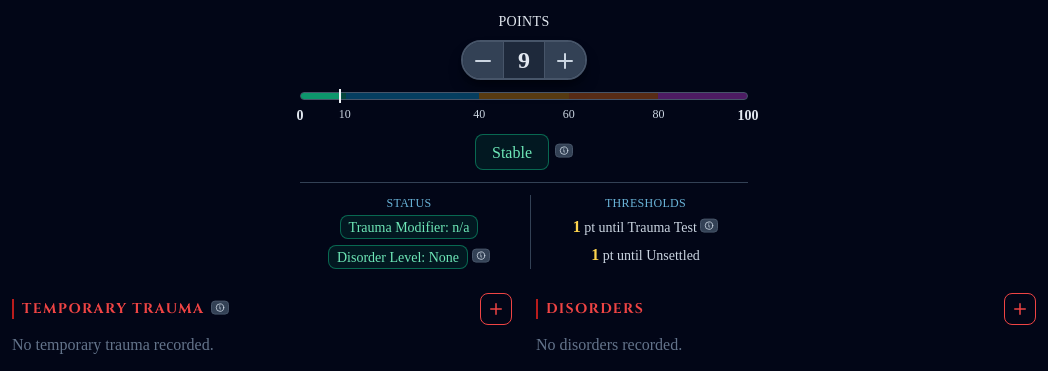
Test: InsanityPanel points wiring › updates the degree shown when the stepper crosses into a new band
This screenshot has width=1048, height=371.
Check: the text "Stable" is shown, box [475,134,549,170]
Click the button named "Increase".
click(565, 60)  # box [545,42,585,78]
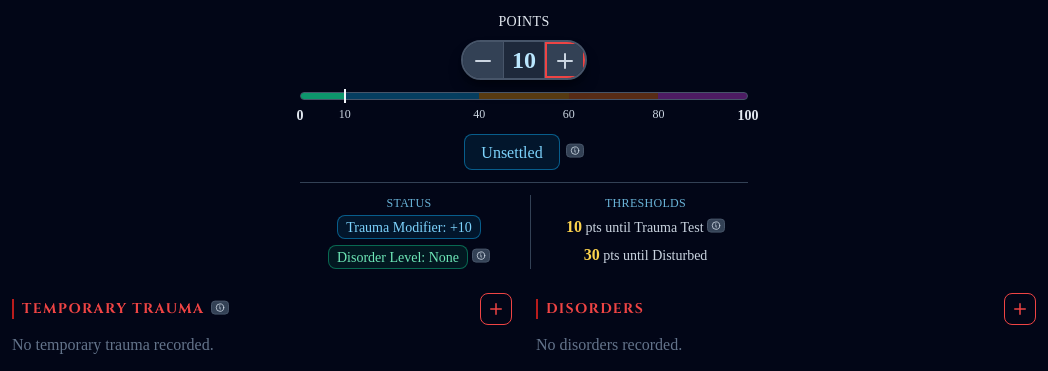
Check: the text "Unsettled" is shown, box [464,134,560,170]
Check: the text "Stable" is gone
